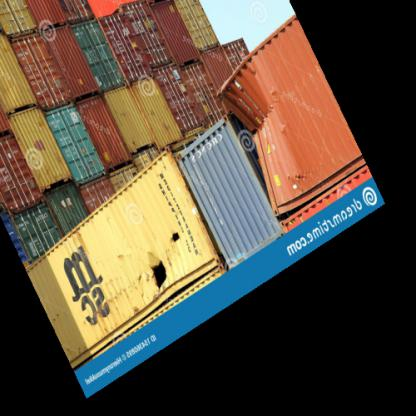Damage: (226, 83, 278, 153), (140, 245, 179, 314), (168, 220, 196, 259)
